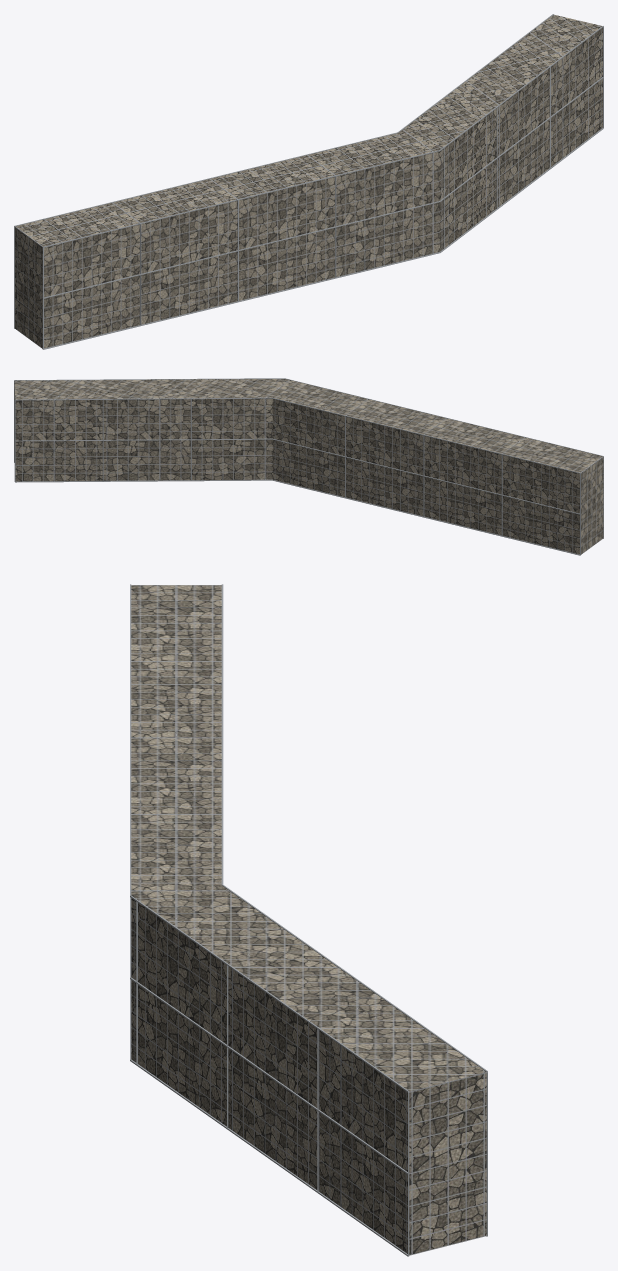
3 renders of one model, top to bottom at view 1: azimuth 30°, elevation 25°; view 2: azimuth 150°, elevation 25°; view 3: azimuth 270°, elevation 25°, orthographic. The views are drawn at different scales.
Visible parts, largest first — view 1: wall.gabion (×2); view 2: wall.gabion (×2); view 3: wall.gabion (×2).
Part boxes in pixels (x1,y1,x2,y2): wall.gabion (×2): [14, 14, 603, 349]; wall.gabion (×2): [14, 378, 603, 555]; wall.gabion (×2): [130, 584, 487, 1256].
Size of the model in its own units: 6.64 by 1.98 by 1.01.
2 materials, 1 textured.
